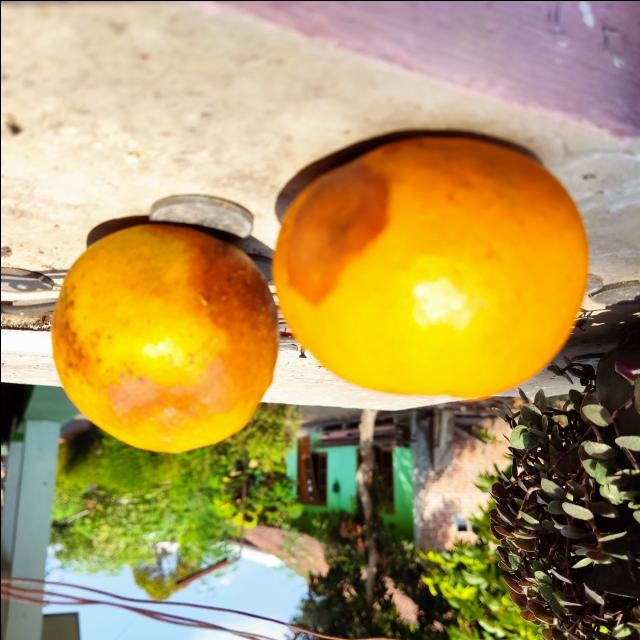agrume: (273, 125, 591, 402), (47, 223, 282, 457)
